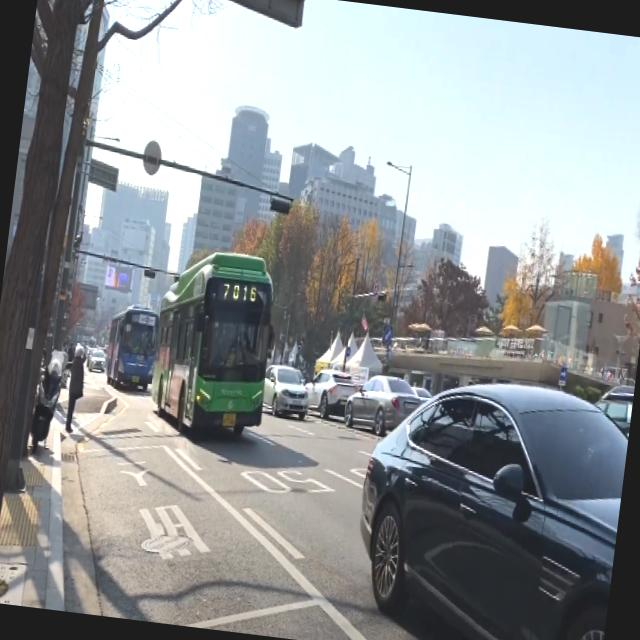bus-number: (220, 281, 258, 305), (130, 312, 140, 324)
